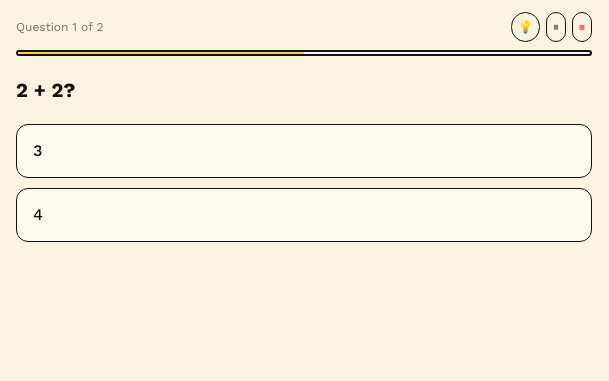
Test: QuizQuestion › does not stop the quiz if the in-app confirmation is declined
Step 1. Click the button named "Stop" → (582, 27), box [572,12,592,42]
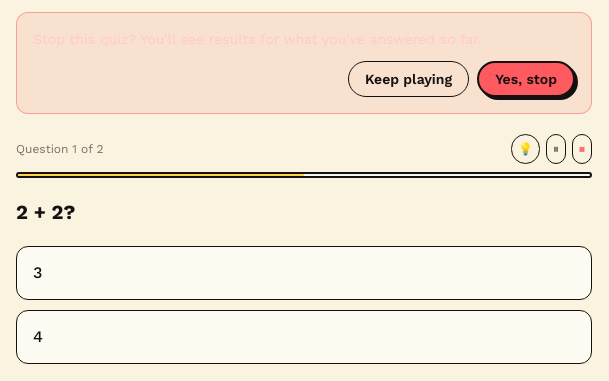
Step 2. Click the button "Keep playing" → (409, 79), box [348,61,469,97]
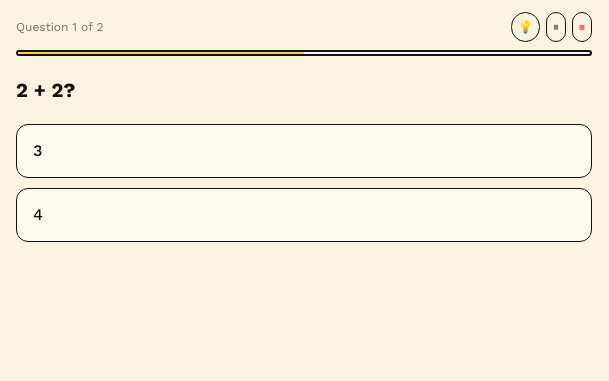
Check: the heading "2 + 2?" is shown, box [16,78,76,102]
Check: the message is gone
